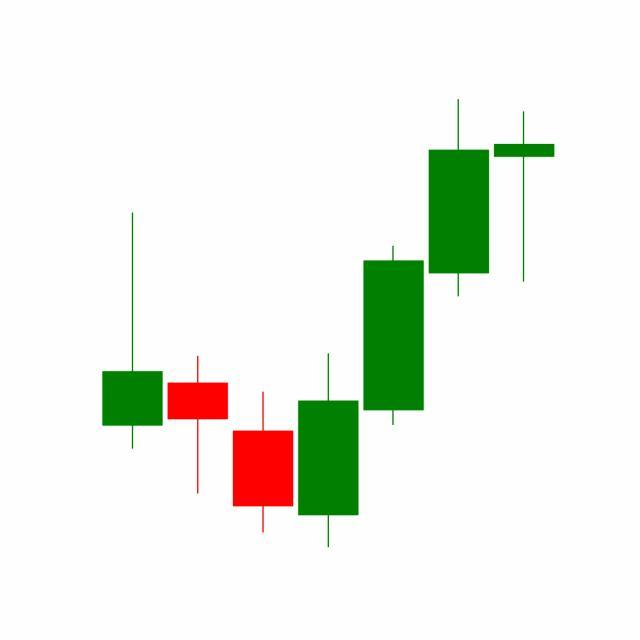Advance Block: (360, 99, 556, 430)
